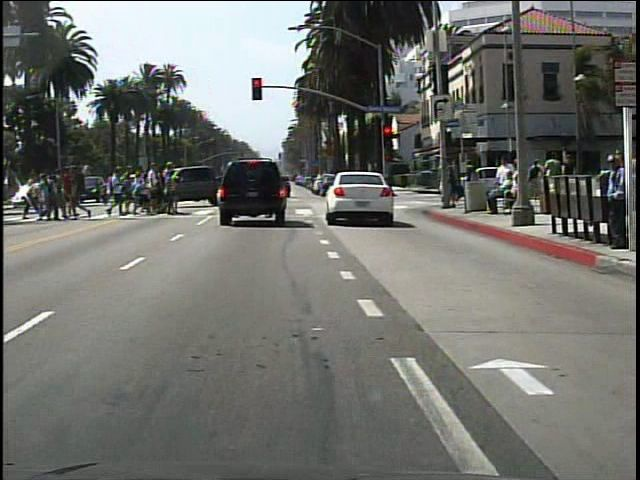person: (599, 156, 630, 260)
